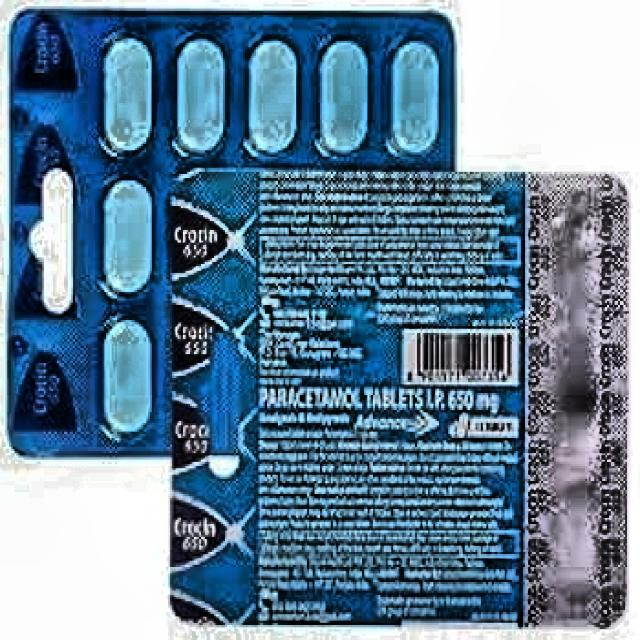Crocin: (10, 21, 98, 448), (176, 178, 261, 620)
